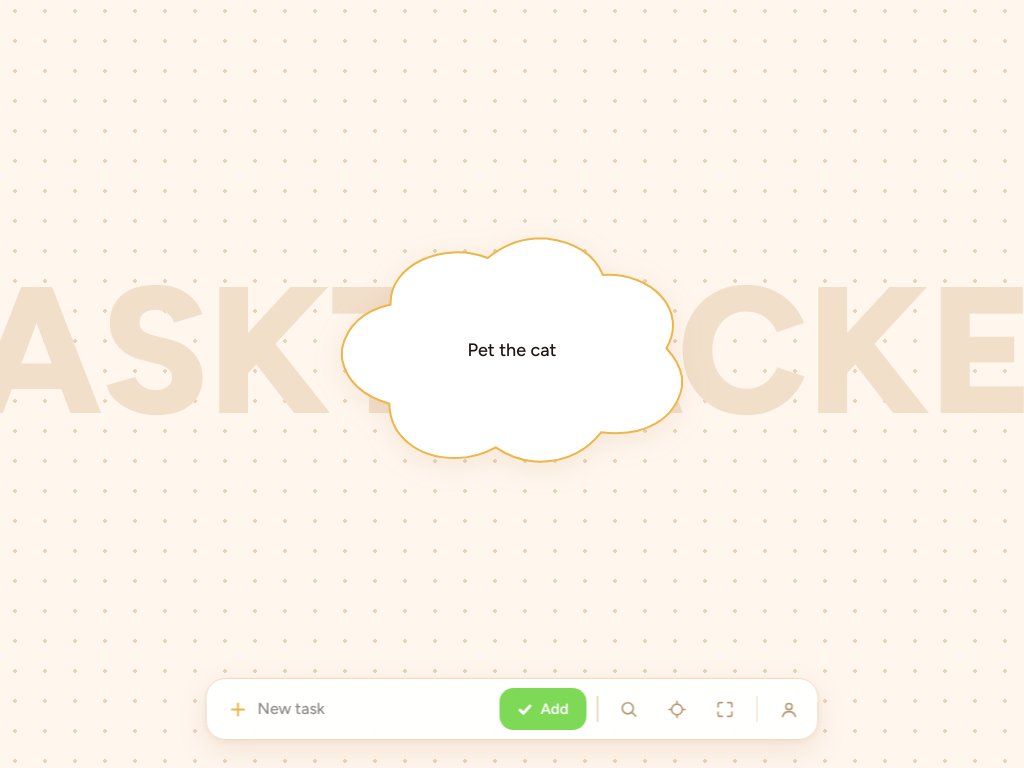
App › clicking a cloud opens TaskView with the right title
Click the button "Pet the cat".
click(512, 350)  # box [342,238,682,462]
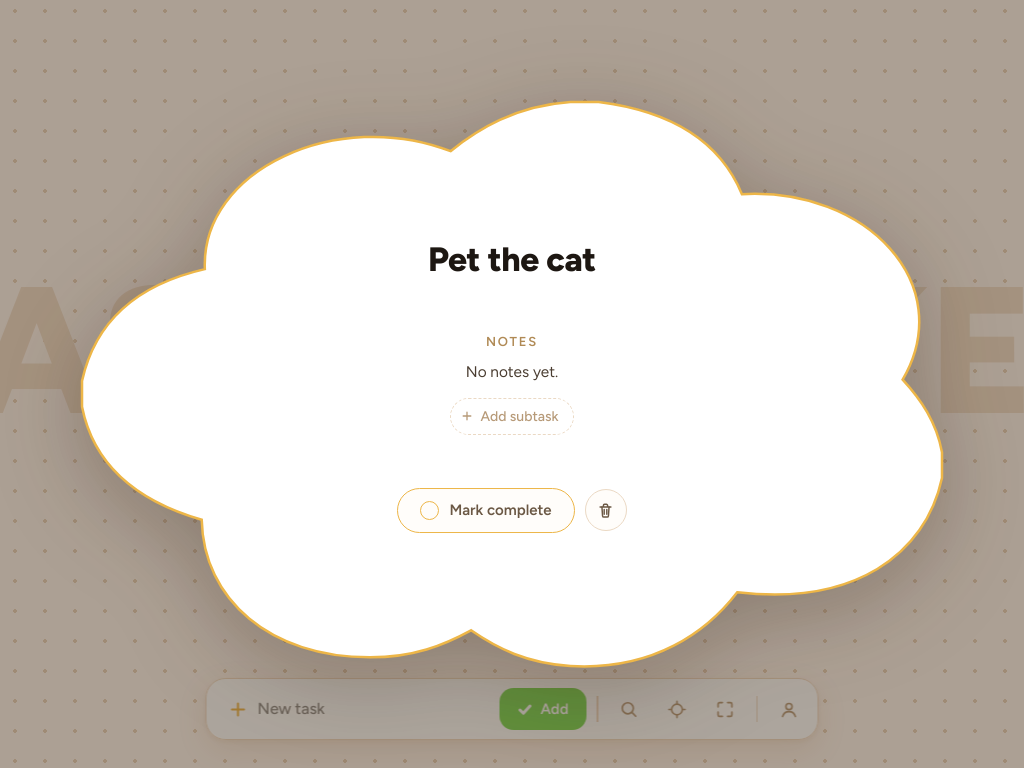
Expected: the text "Notes" is shown, [486,332,538,351]
Expected: the button "Mark complete" is shown, [397,488,574,533]
